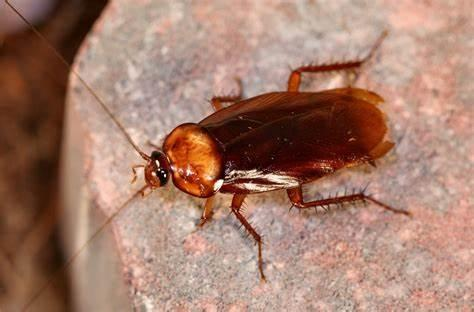cockroach: (125, 80, 408, 229)
